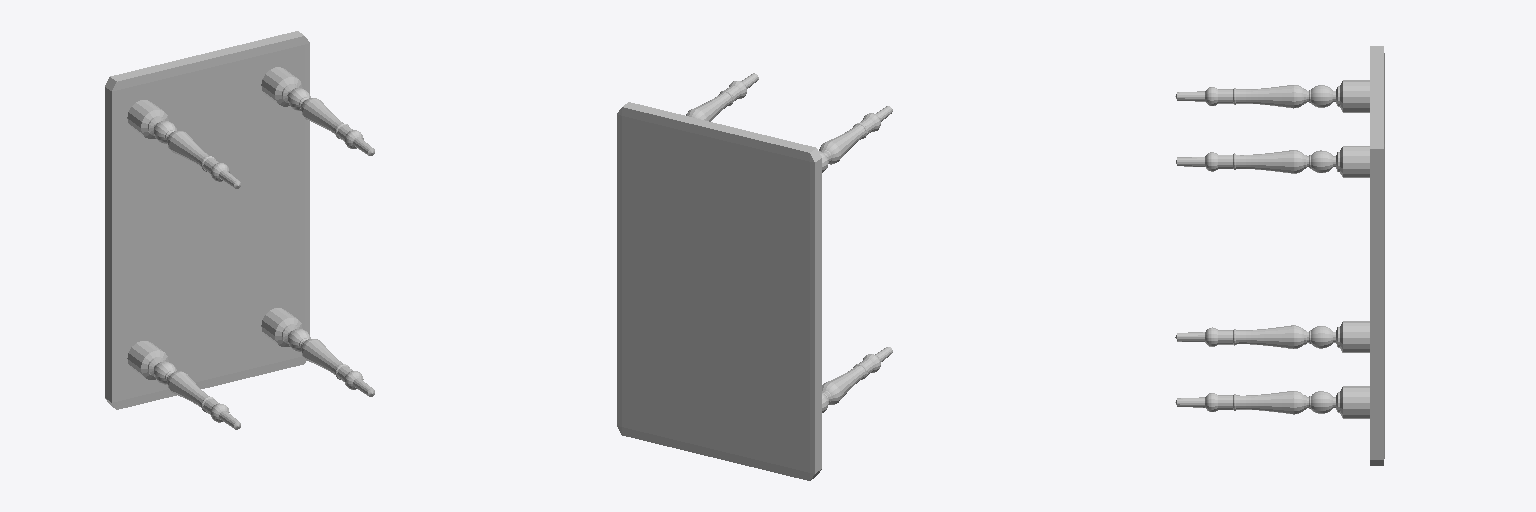
File: Table.obj
The picture shows the model from 3 angles: view 1: azimuth 30°, elevation 25°; view 2: azimuth 150°, elevation 25°; view 3: azimuth 270°, elevation 25°; orthographic projection.
Parts seen in each view (by area): view 1: Curve.003; view 2: Curve.003; view 3: Curve.003.
Part boxes in pixels (x1,y1,x2,y2): Curve.003: (105, 31, 374, 429); Curve.003: (617, 73, 892, 480); Curve.003: (1175, 46, 1384, 465).
Bounding box in the file's own units: 1.26 × 2 × 1.15.